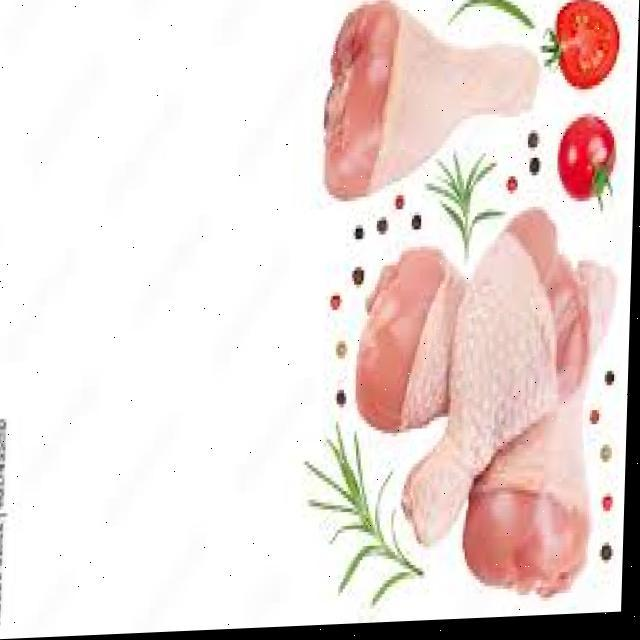leg: (406, 200, 583, 540), (481, 257, 608, 602), (317, 0, 538, 189), (353, 238, 472, 432)
